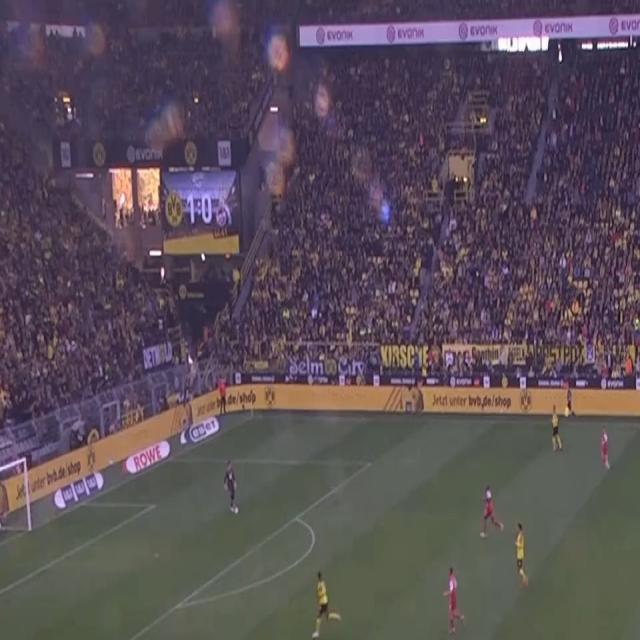ball: (233, 504, 240, 516)
